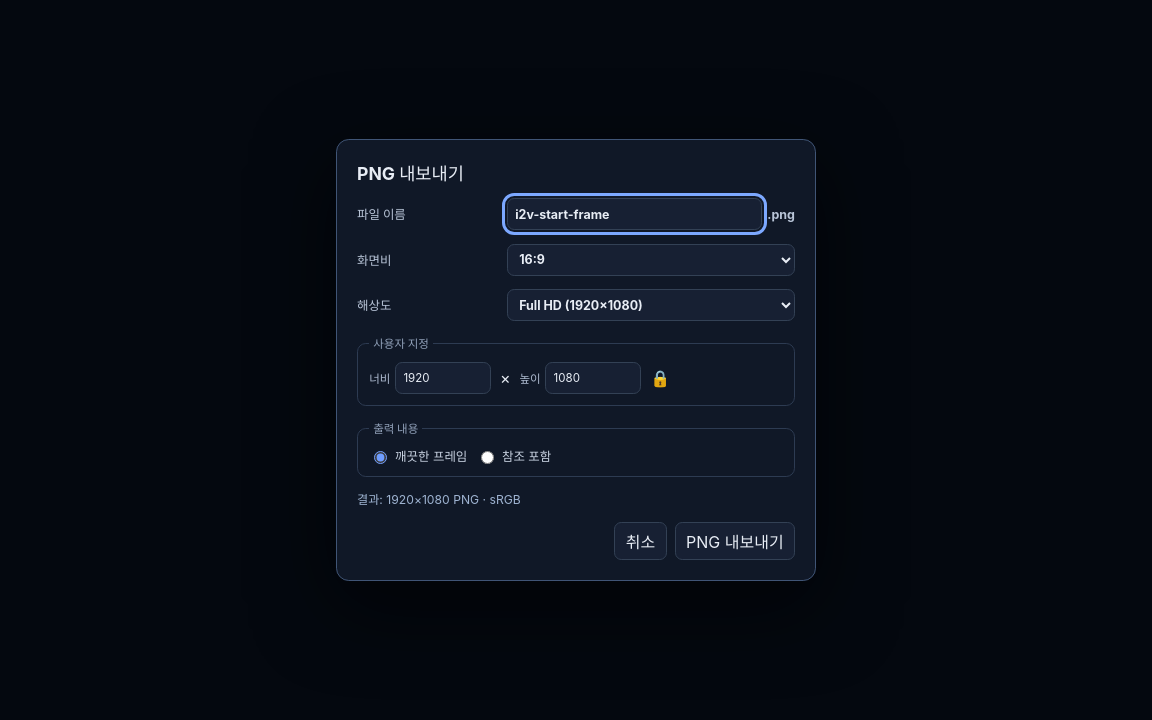
Test case: ExportDialog › fixed preset과 clean 기본값을 표시하고 active aspect에 custom dimensions를 잠근다
This screenshot has width=1152, height=720.
expect the dialog "PNG 내보내기" is shown: met, box [336, 139, 816, 581]
expect the field labelled "파일 이름" holds "i2v-start-frame": met, box [507, 198, 762, 230]
Select "세로 Full HD (1080×1920)" in the dropdown labelled "해상도" at (651, 305), box [507, 289, 795, 321]
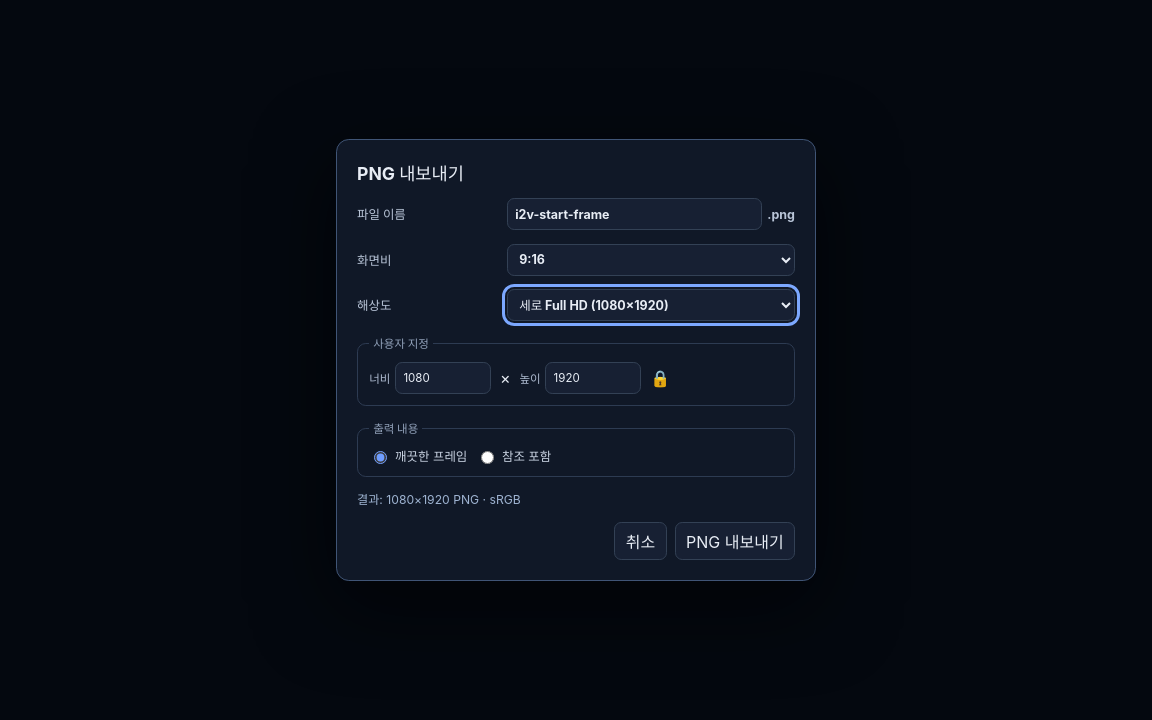
expect the dropdown labelled "화면비" shows "9:16": met, box [507, 244, 795, 276]
expect the number field named "사용자 지정 너비" holds "1080": met, box [395, 362, 491, 394]
expect the number field named "사용자 지정 높이" holds "1920": met, box [545, 362, 641, 394]
Select "사용자 지정" in the dropdown labelled "해상도" at (651, 305), box [507, 289, 795, 321]
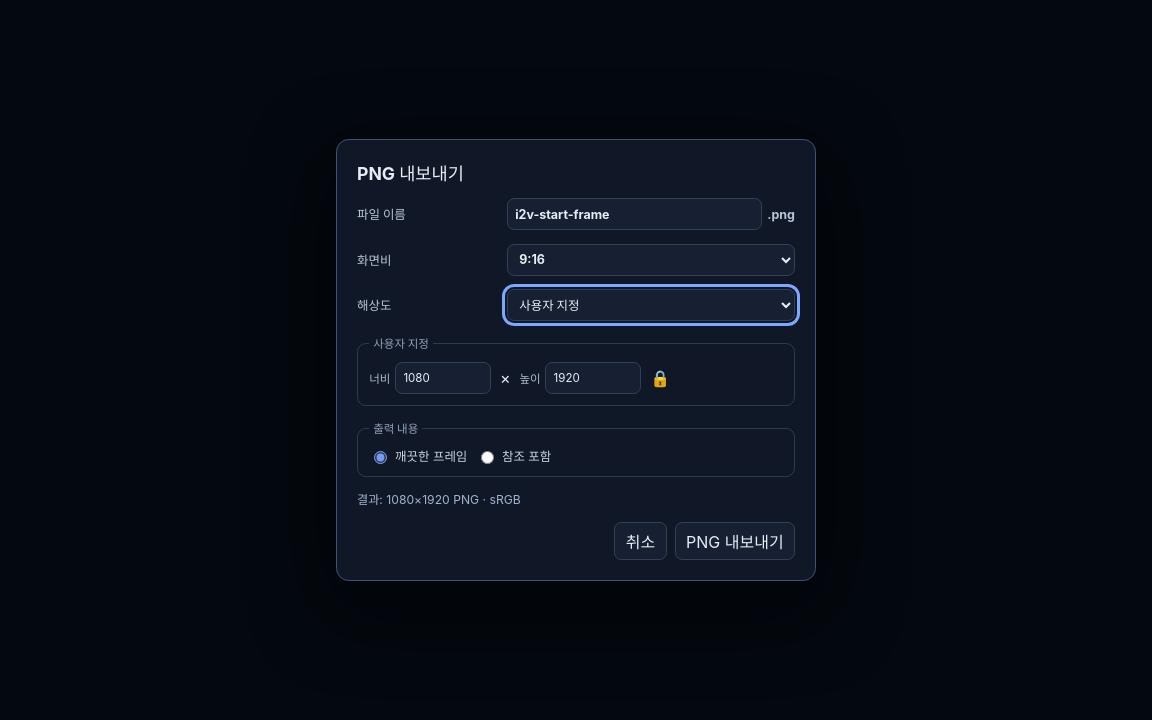
Clear the number field named "사용자 지정 너비" at (443, 378), box [395, 362, 491, 394]
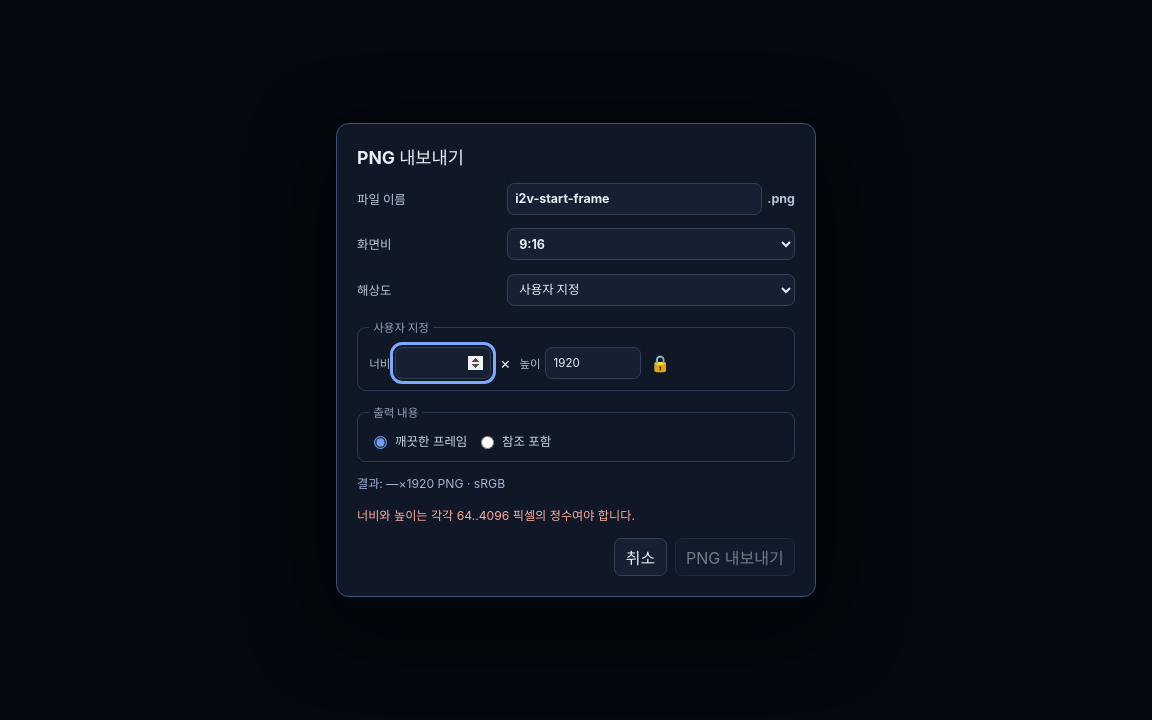
Type "720" into the number field named "사용자 지정 너비" at (443, 363), box [395, 347, 491, 379]
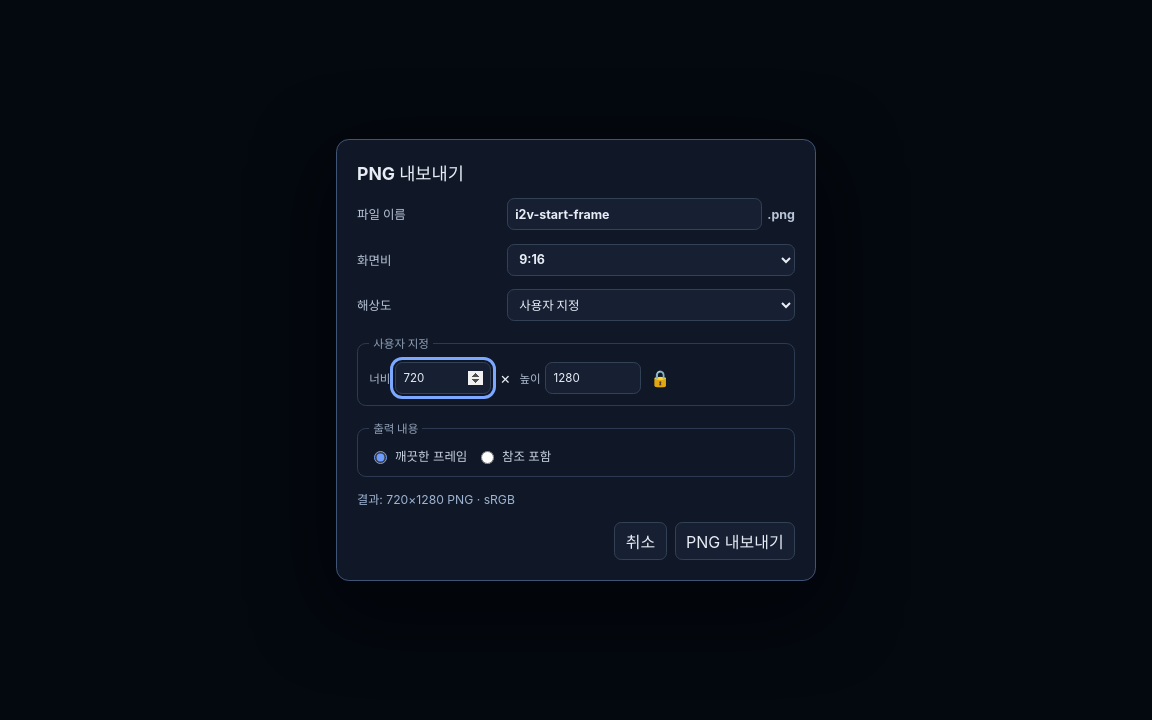
expect the number field named "사용자 지정 높이" holds "1280": met
Clear the number field named "사용자 지정 높이" at (593, 378), box [545, 362, 641, 394]
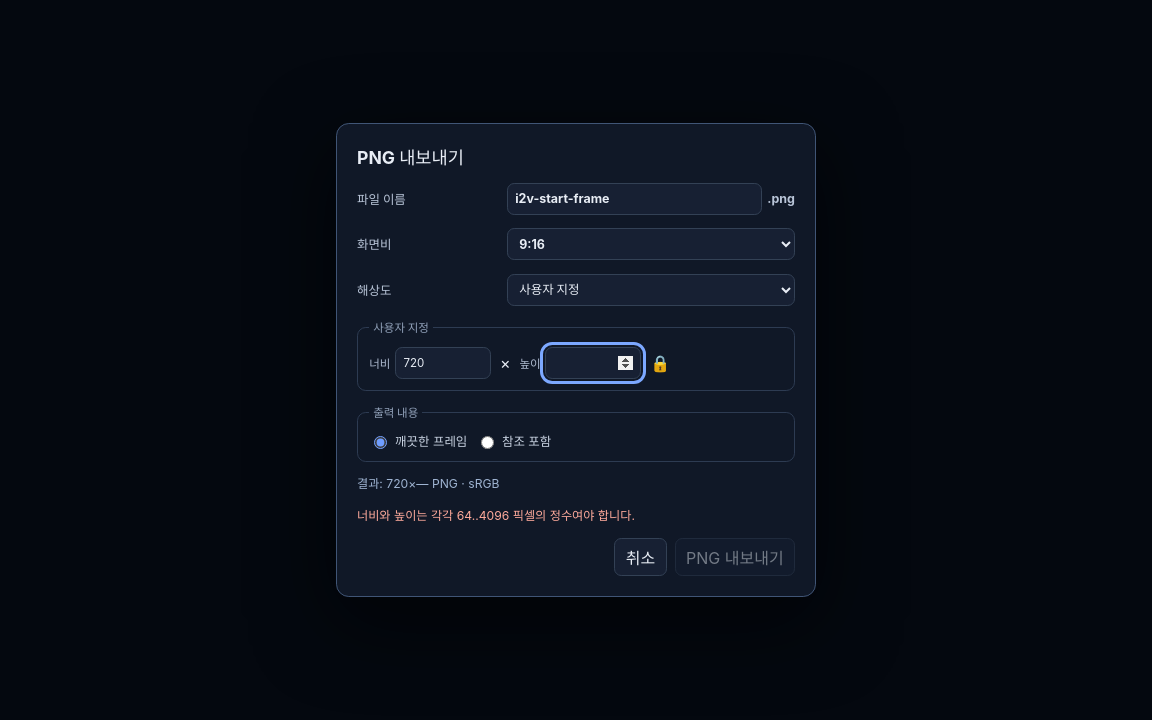
Type "1000" into the number field named "사용자 지정 높이" at (593, 363), box [545, 347, 641, 379]
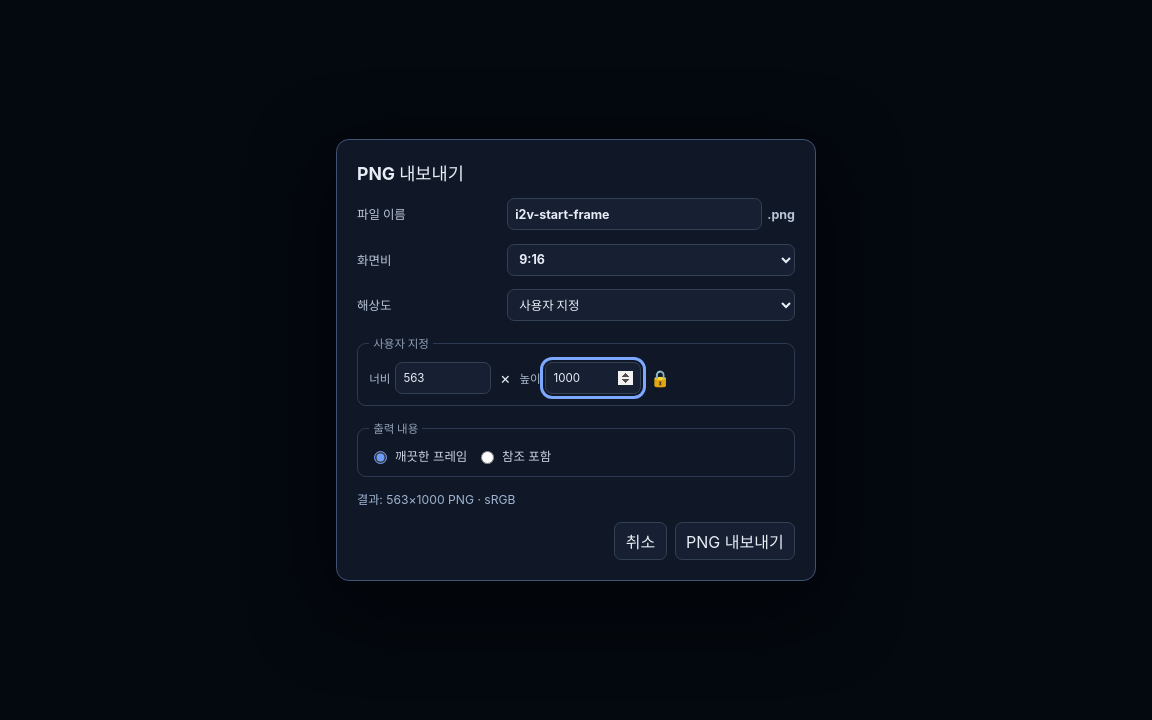
expect the number field named "사용자 지정 너비" holds "563": met, box [395, 362, 491, 394]
